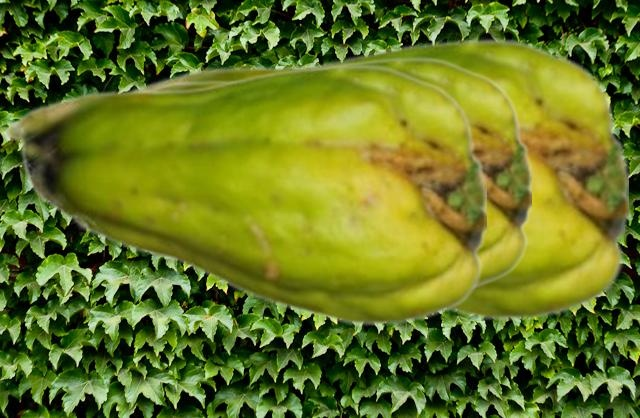sayote: (133, 37, 627, 321), (1, 63, 485, 326), (144, 56, 530, 290)
